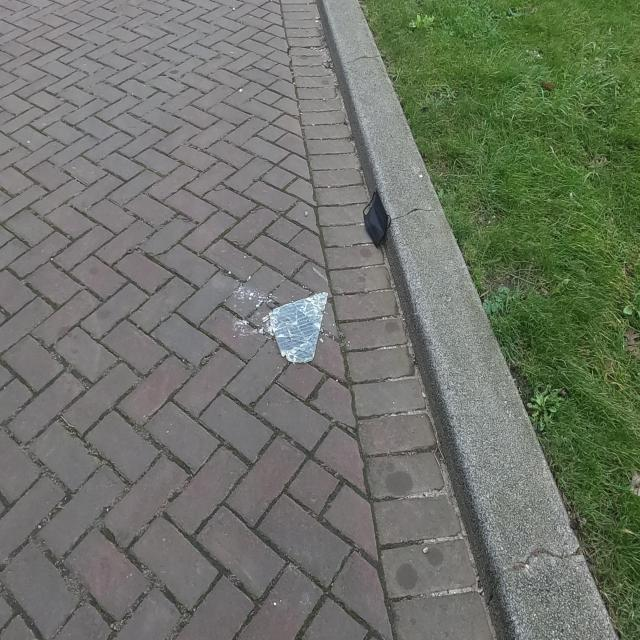Mask: (362, 187, 392, 250)
